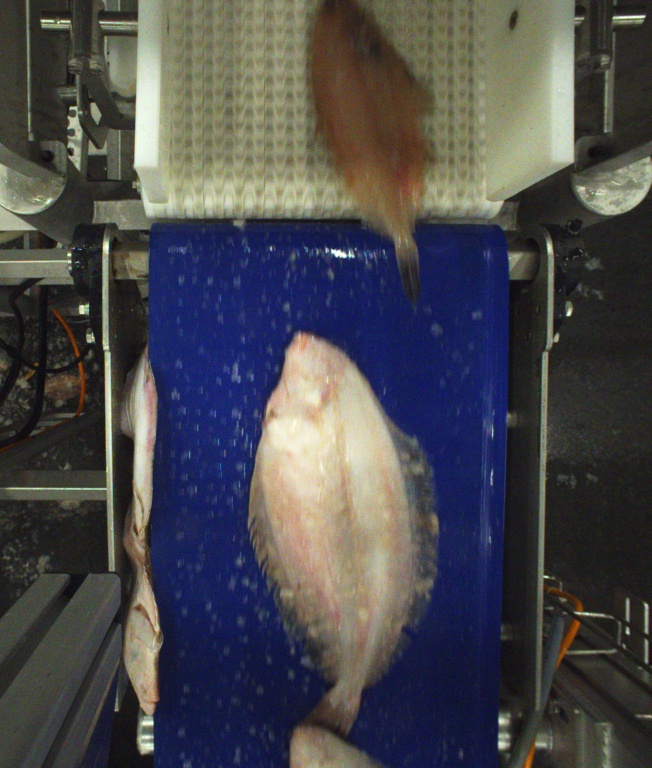WIT: (285, 721, 387, 768)
